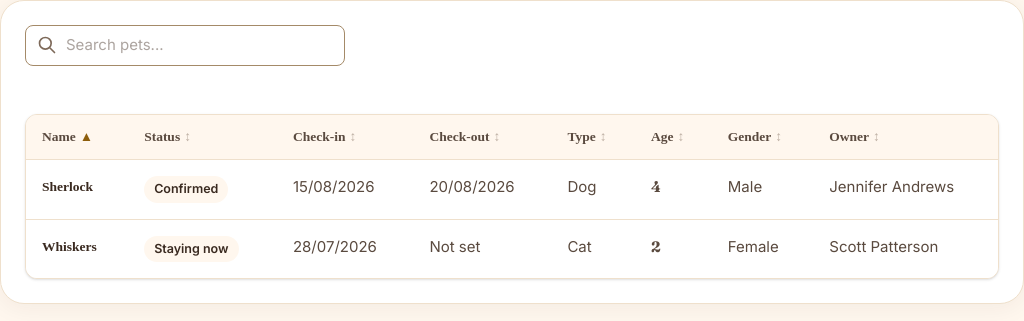
PetListPage › shows a search-specific empty state when no pet matches the query
Expected: the button "Sherlock" is shown, [42,177,93,197]
Step 1. Type "no such pet" into the field labelled "Search pets" → [185, 45], box [25,25,345,66]
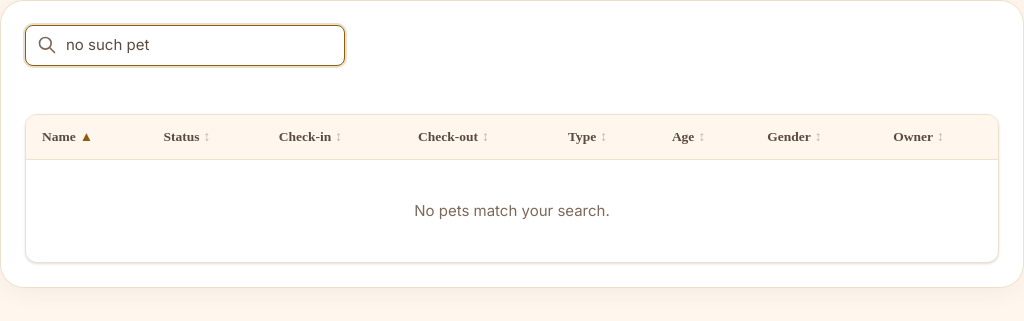
Expected: the text "No pets match your search." is shown, [26,160,998,262]
